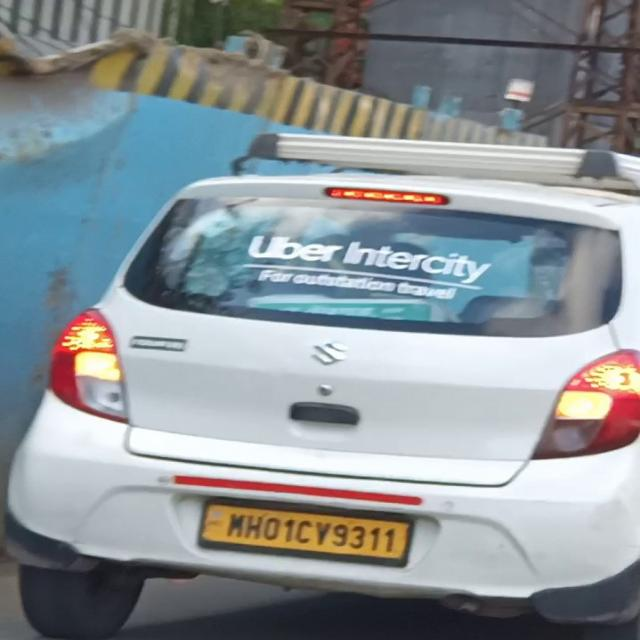Plate: (202, 502, 409, 563)
